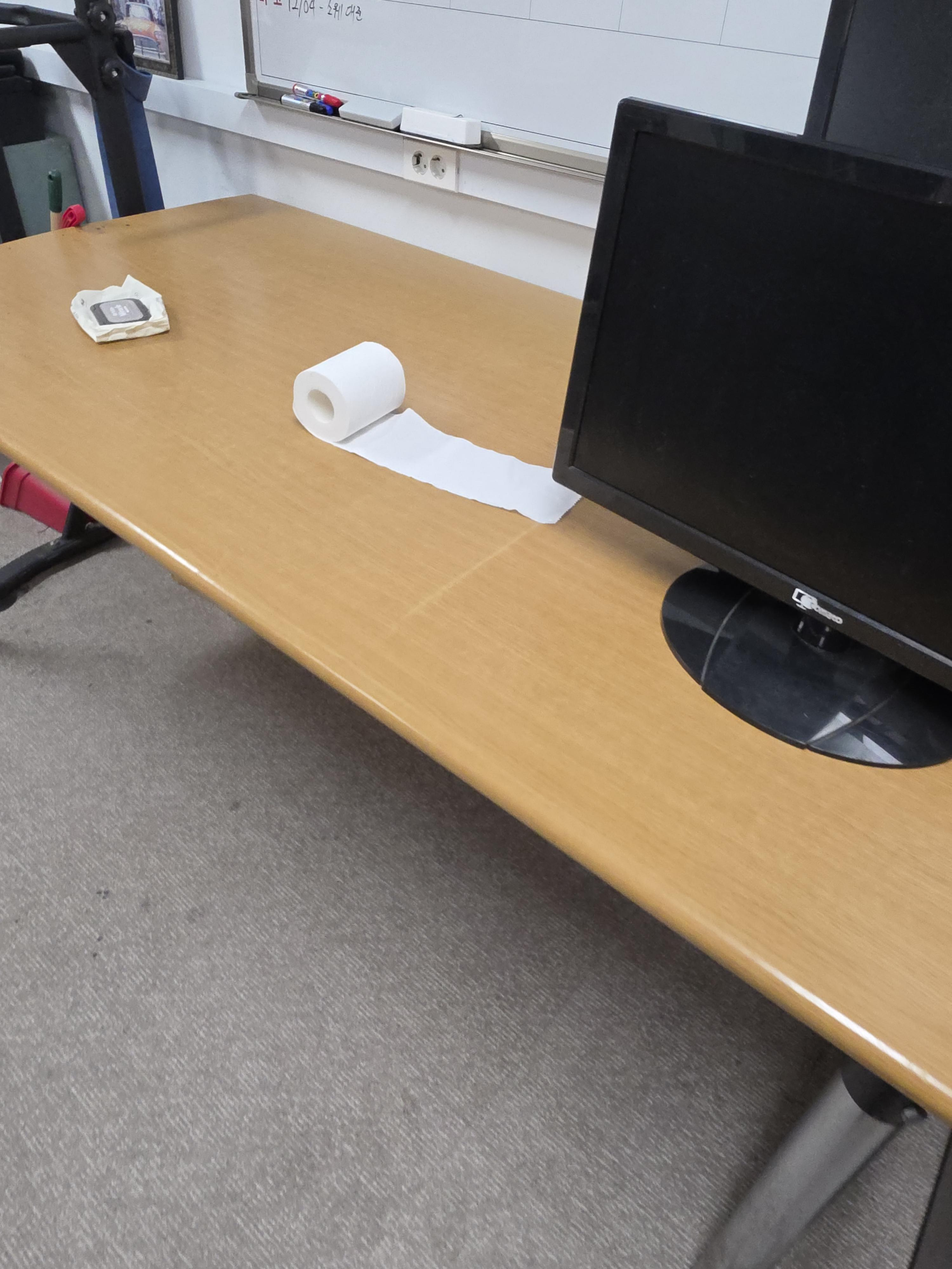tissue: (291, 341, 583, 524), (69, 274, 170, 343)
